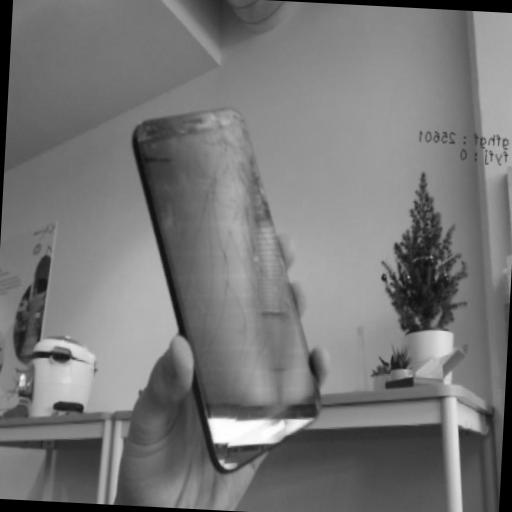phone: (134, 107, 324, 474)
